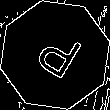P_SW: (26, 24, 84, 86)
